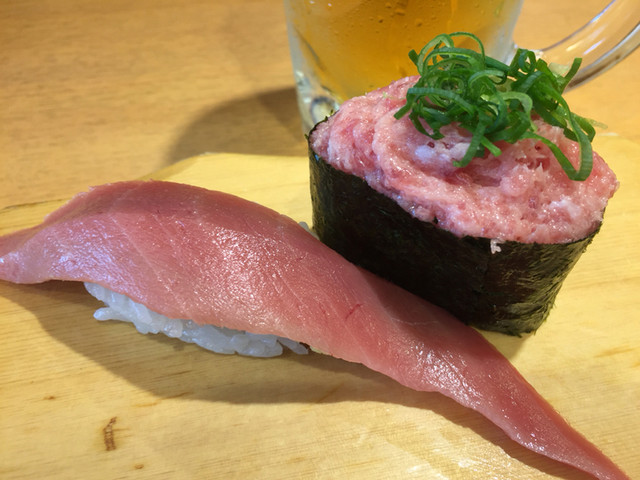medium_fatty_tuna: (13, 180, 628, 480)
